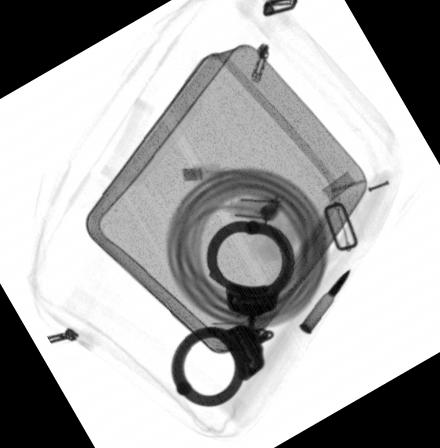Bullet: (297, 267, 349, 331)
HandCuffs: (169, 215, 296, 406)
